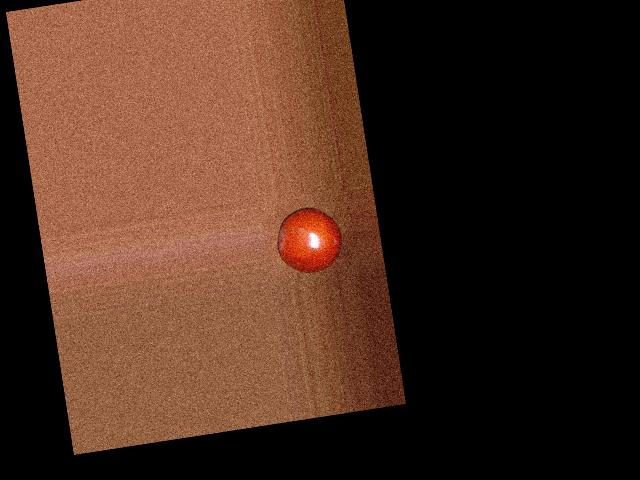tomato: (273, 203, 346, 278)
